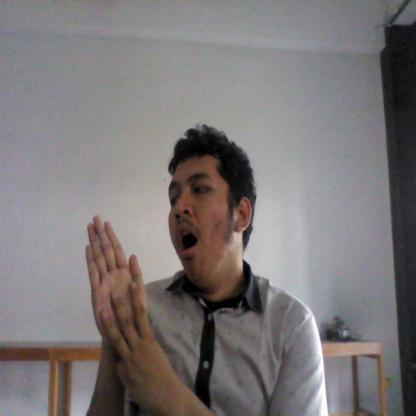M: (72, 209, 166, 394)
